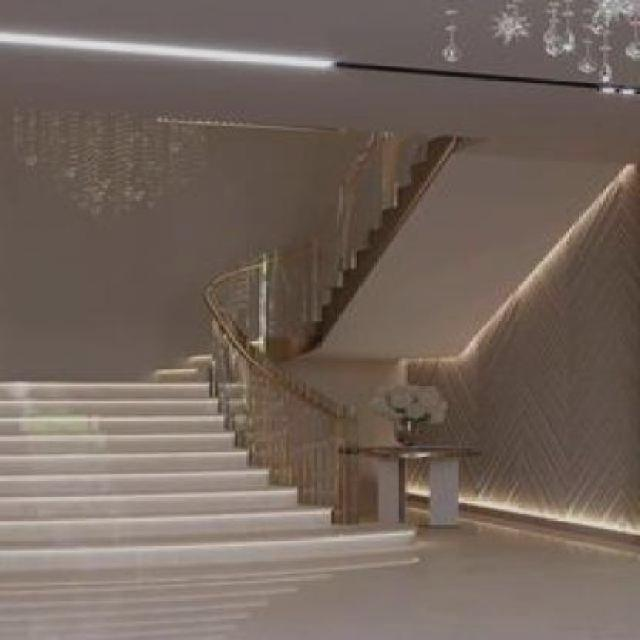stair: (1, 352, 457, 570)
